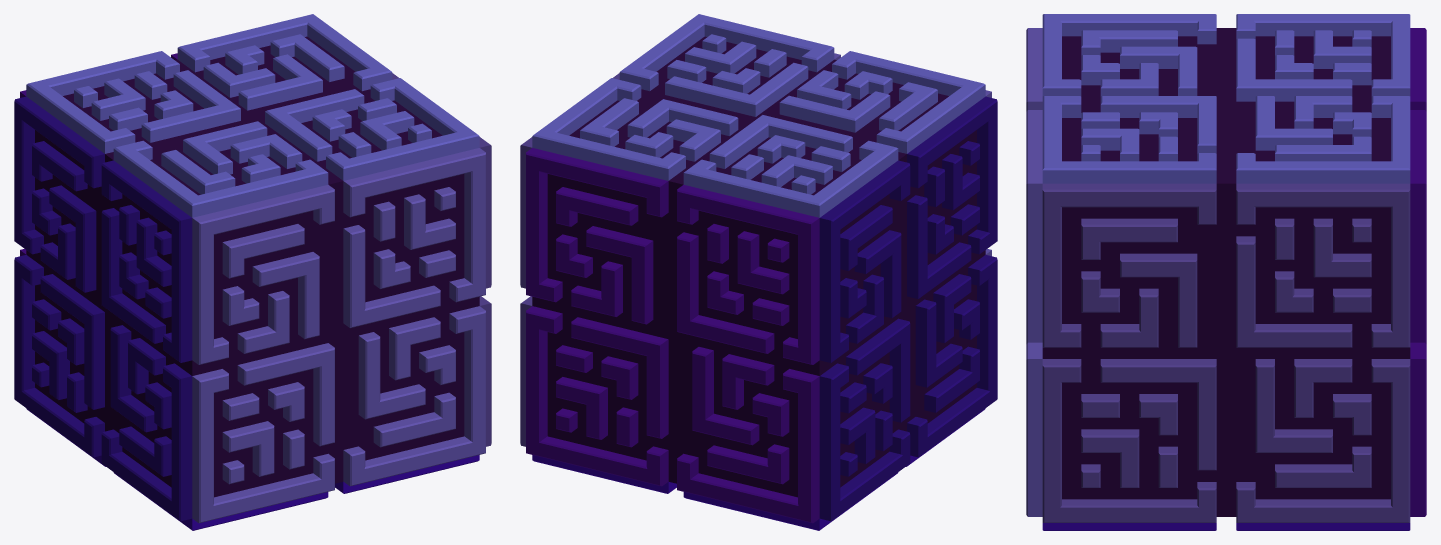
The model's file is Parker_L2_V3 (Box Collider).fbx.
3 renders of one model, left to right at view 1: azimuth 30°, elevation 25°; view 2: azimuth 150°, elevation 25°; view 3: azimuth 270°, elevation 25°, orthographic. The views are drawn at different scales.
Visible parts, largest first — view 1: Cube_2, Wall_Side1_199 (×5), Wall_Side1_195 (×5), Wall_Side1_198 (×3), Wall_Side1_200 (×3), Wall_Side1_196 (×3), Wall_Side1_197 (×3), Wall_Side1_201 (×3), Wall_Side1_202 (×3), Wall_Side1_183 (×3), Wall_Side1_189 (×3), Wall_Side1_175 (×3) (+23 smaller); view 2: Cube_2, Wall_Side1_198 (×5), Wall_Side1_200 (×5), Wall_Side1_199 (×3), Wall_Side1_196 (×3), Wall_Side1_195 (×3), Wall_Side1_201 (×3), Wall_Side1_202 (×3), Wall_Side1_197 (×3), Wall_Side1_183 (×3), Wall_Side1_189 (×3), Wall_Side1_192 (×3) (+23 smaller); view 3: Cube_2, Wall_Side1_196 (×5), Wall_Side1_197 (×5), Wall_Side1_201 (×2), Wall_Side1_202 (×2), Wall_Side1_198 (×3), Wall_Side1_200 (×3), Wall_Side1_199 (×3), Wall_Side1_195 (×3), Wall_Side1_188 (×2), Wall_Side1_182 (×2), Wall_Side1_194 (×2) (+37 smaller).
Boxes of the visible parts, x1,y1,x2,y2 form: Cube_2: [26, 36, 479, 497]; Wall_Side1_199 (×5): [14, 132, 491, 527]; Wall_Side1_195 (×5): [14, 115, 491, 493]; Wall_Side1_198 (×3): [26, 51, 485, 362]; Wall_Side1_200 (×3): [171, 17, 485, 506]; Wall_Side1_196 (×3): [14, 96, 334, 237]; Wall_Side1_197 (×3): [34, 86, 472, 229]; Wall_Side1_201 (×3): [14, 78, 479, 523]; Wall_Side1_202 (×3): [101, 14, 485, 521]; Wall_Side1_183 (×3): [84, 89, 364, 446]; Wall_Side1_189 (×3): [101, 105, 365, 313]; Wall_Side1_175 (×3): [110, 73, 380, 419]; Cube_2: [532, 36, 985, 497]; Wall_Side1_198 (×5): [520, 96, 997, 493]; Wall_Side1_200 (×5): [520, 132, 997, 527]; Wall_Side1_199 (×3): [526, 17, 840, 506]; Wall_Side1_196 (×3): [526, 80, 985, 234]; Wall_Side1_195 (×3): [526, 51, 970, 362]; Wall_Side1_201 (×3): [526, 14, 910, 521]; Wall_Side1_202 (×3): [532, 78, 997, 523]; Wall_Side1_197 (×3): [677, 102, 990, 234]; Wall_Side1_183 (×3): [646, 76, 910, 438]; Wall_Side1_189 (×3): [677, 118, 927, 321]; Wall_Side1_192 (×3): [631, 95, 901, 324]; Cube_2: [1042, 28, 1410, 516]; Wall_Side1_196 (×5): [1026, 14, 1426, 530]; Wall_Side1_197 (×5): [1026, 14, 1426, 530]; Wall_Side1_201 (×2): [1042, 161, 1216, 522]; Wall_Side1_202 (×2): [1236, 161, 1410, 522]; Wall_Side1_198 (×3): [1026, 14, 1410, 347]; Wall_Side1_200 (×3): [1026, 96, 1410, 507]; Wall_Side1_199 (×3): [1042, 96, 1426, 507]; Wall_Side1_195 (×3): [1042, 20, 1426, 347]; Wall_Side1_188 (×2): [1236, 79, 1352, 347]; Wall_Side1_182 (×2): [1100, 96, 1198, 382]; Wall_Side1_194 (×2): [1081, 30, 1177, 242].
Bounding box in the file's own units: 62.03 × 62.03 × 62.03.
2 materials, 2 textured.
